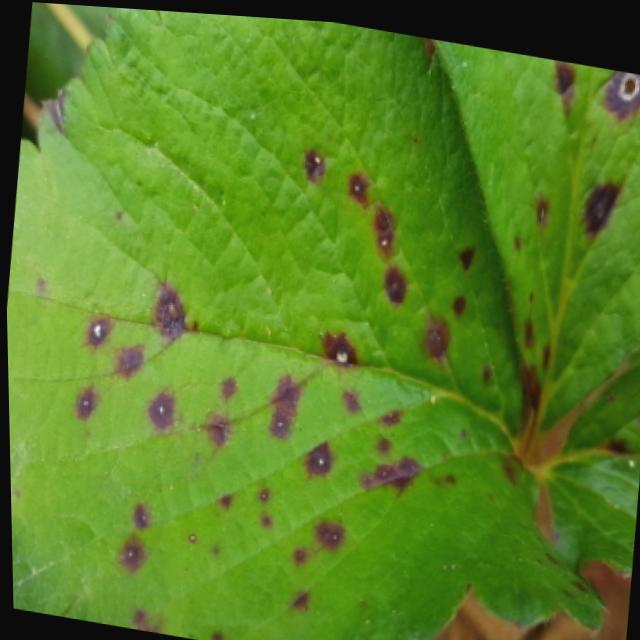Leaf Spot: (5, 6, 601, 640), (430, 32, 640, 434), (535, 342, 640, 573)
